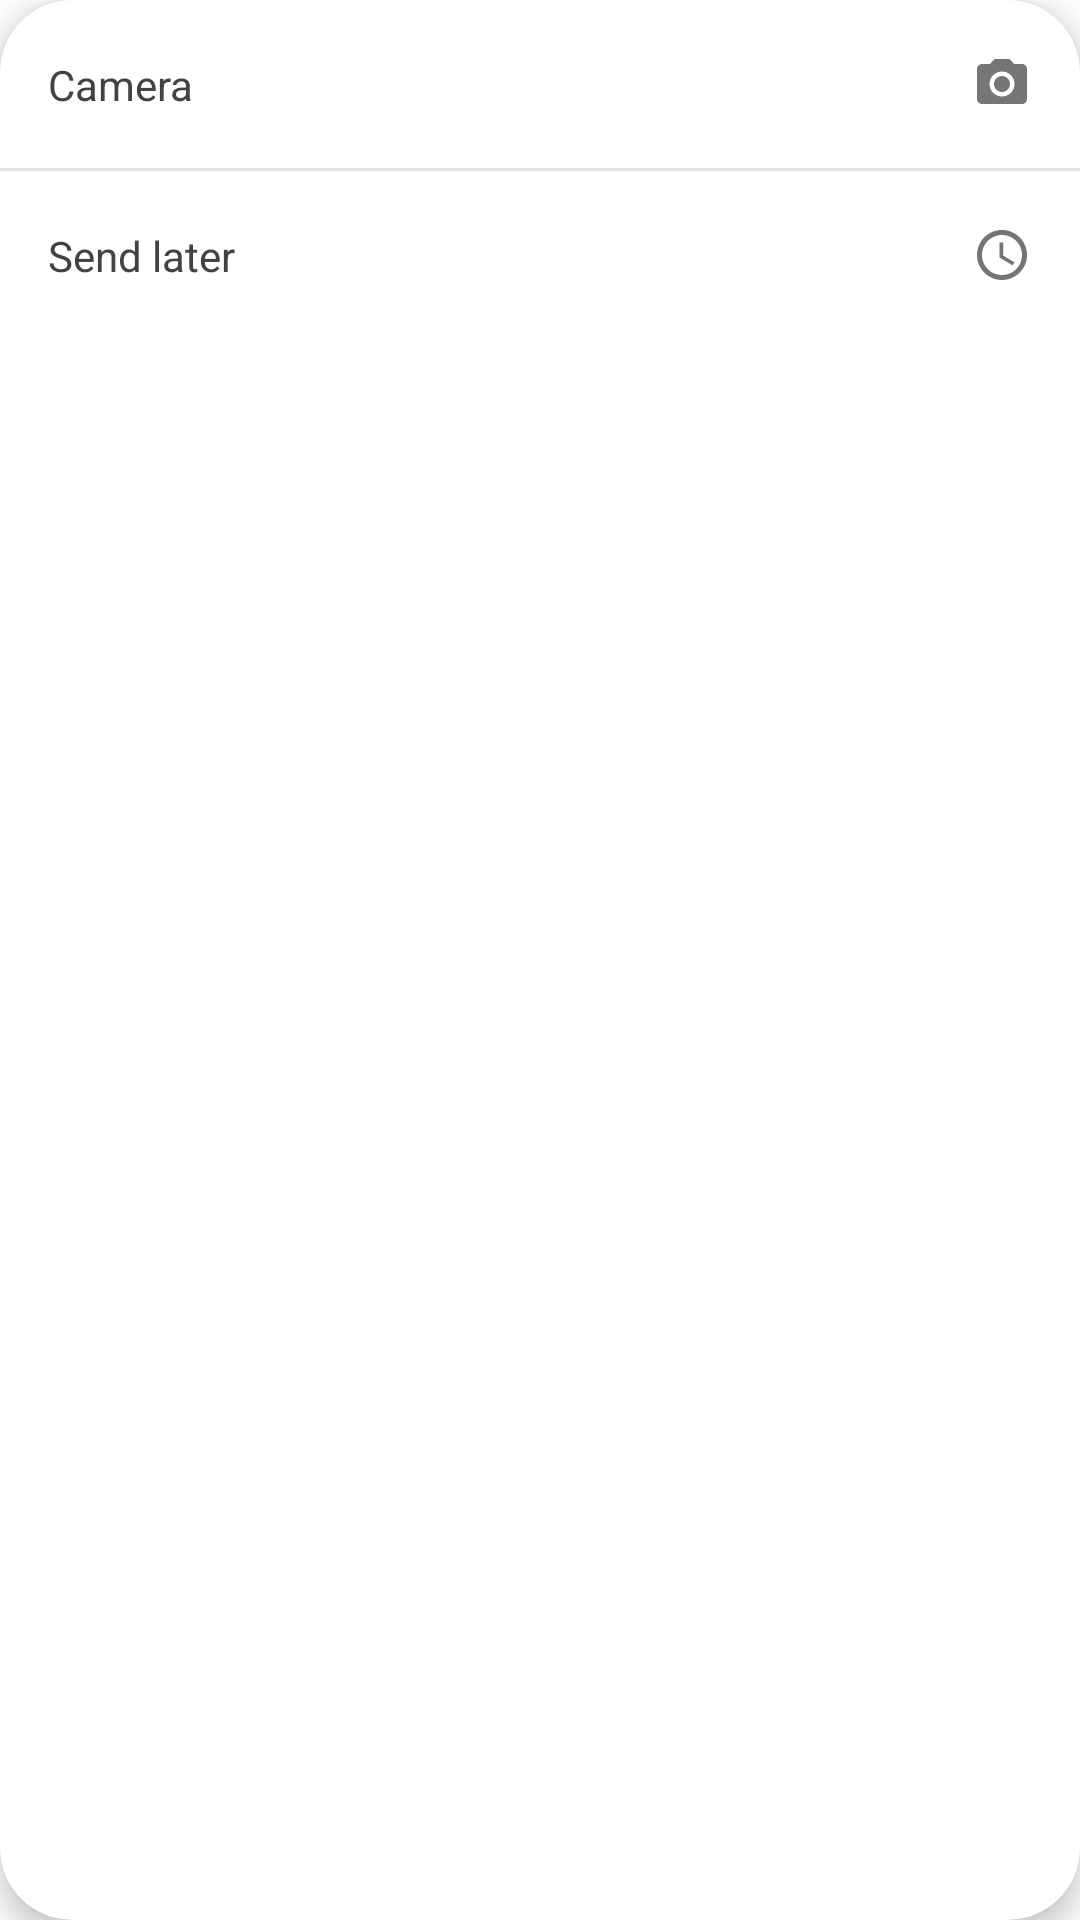

Icon click points for this 1080w x 1920h phone screenshot, format point (x, y):
camera: point (1002, 81)
time: point (1002, 255)
